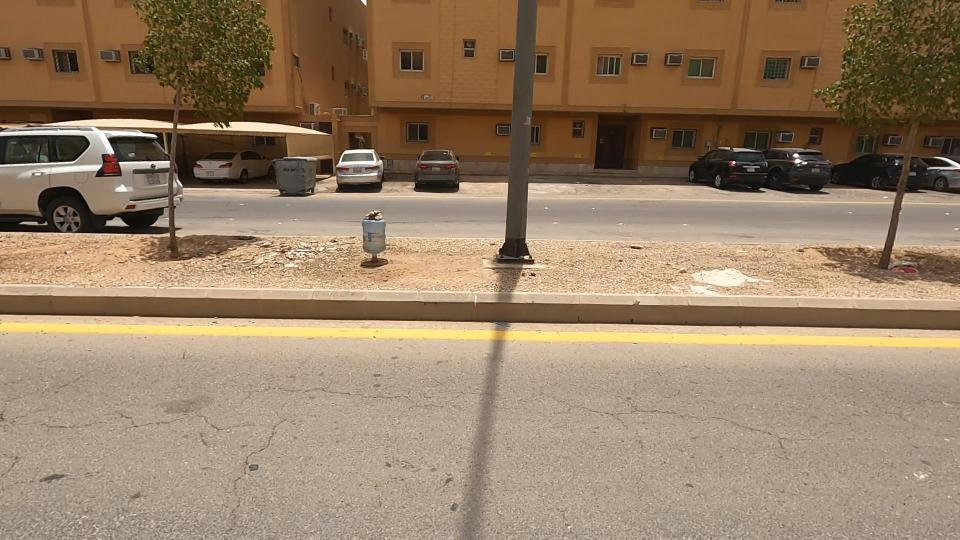GARBAGE: (297, 169, 446, 311)
